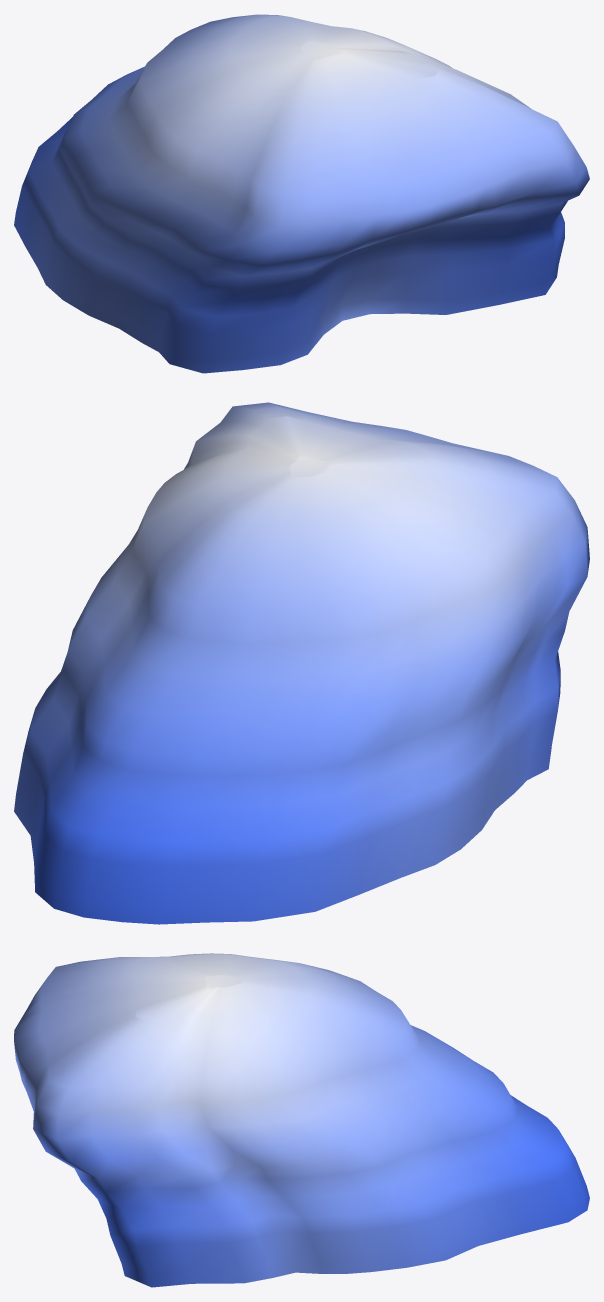
Rendered from BIg Moutain ISland 3.fbx.
3 renders of one model, top to bottom at view 1: azimuth 30°, elevation 25°; view 2: azimuth 150°, elevation 25°; view 3: azimuth 270°, elevation 25°, orthographic. The views are drawn at different scales.
Visible parts, largest first — view 1: pPlane2; view 2: pPlane2; view 3: pPlane2.
Part boxes in pixels (x1=…): pPlane2: x1=14, y1=14, x2=589, y2=373; pPlane2: x1=14, y1=402, x2=589, y2=924; pPlane2: x1=14, y1=953, x2=589, y2=1287.
Size of the model in its own units: 32.15 by 19.23 by 45.63.
